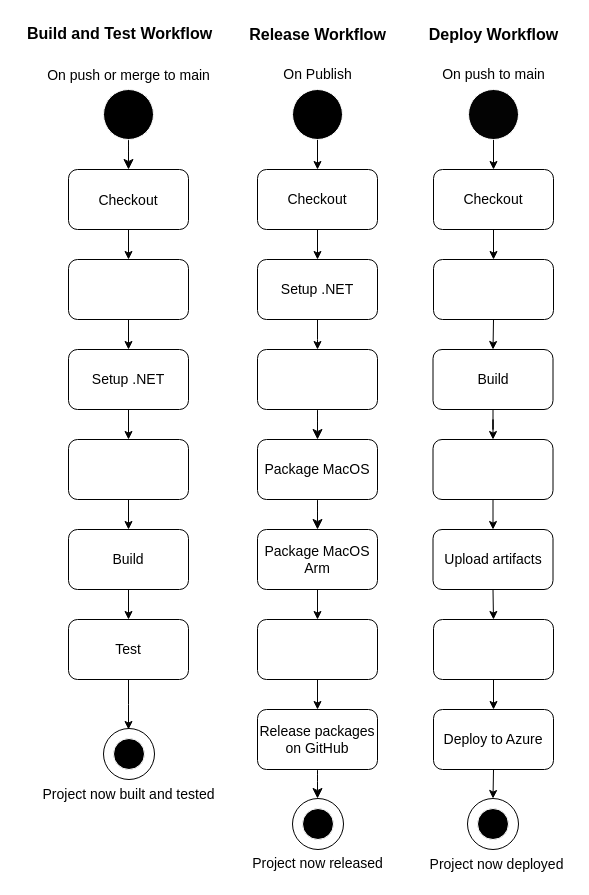
Image size: 589x895. Some labels were removed from this diagram. Each missing label, with the box of its shape:
Download artifacts: (432, 618, 554, 680)
Package application: (432, 438, 553, 500)
Package Linux: (256, 348, 378, 410)
Package Windows: (256, 618, 378, 680)
Restore dependencies: (68, 438, 188, 500)
Set timezone to Copenhagen time: (68, 258, 188, 320)
Setup .NET Core: (432, 258, 554, 320)
